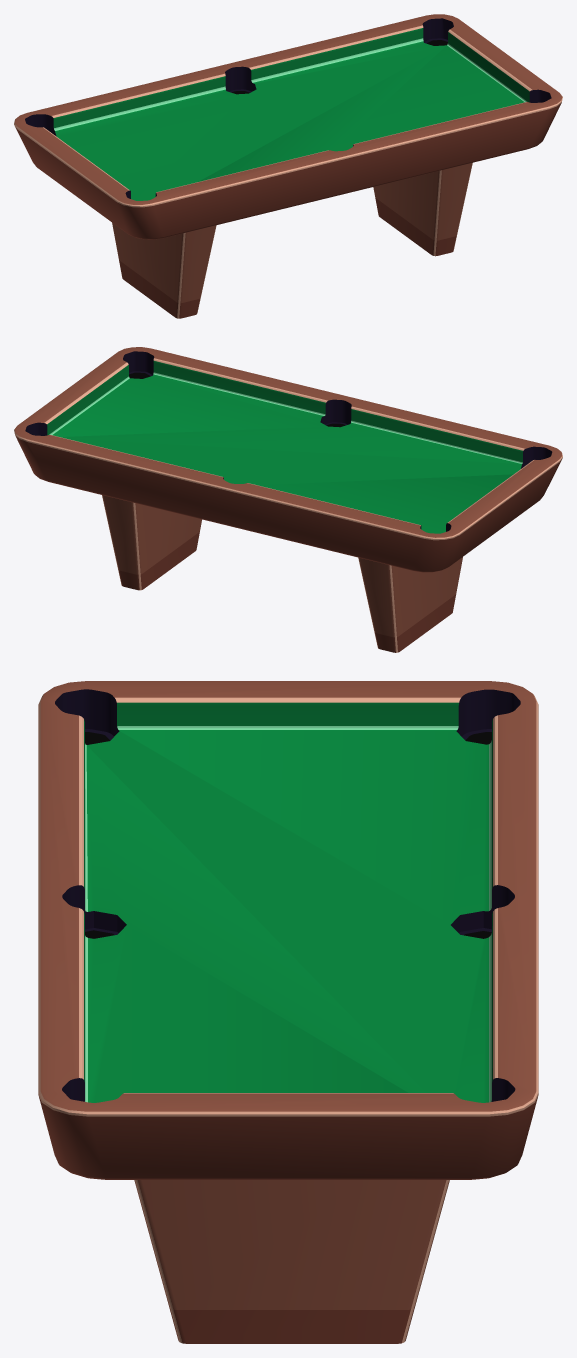
File: BilliardsTable.fbx
3 renders of one model, top to bottom at view 1: azimuth 30°, elevation 25°; view 2: azimuth 150°, elevation 25°; view 3: azimuth 270°, elevation 25°, orthographic. The views are drawn at different scales.
Visible parts, largest first — view 1: BilardoTable, BilardoTableUnder; view 2: BilardoTable, BilardoTableUnder; view 3: BilardoTable, BilardoTableUnder.
Part boxes in pixels (x1=…): BilardoTable: x1=14, y1=14, x2=562, y2=239; BilardoTableUnder: x1=112, y1=162, x2=472, y2=318; BilardoTable: x1=14, y1=347, x2=562, y2=572; BilardoTableUnder: x1=102, y1=495, x2=462, y2=652; BilardoTable: x1=38, y1=681, x2=538, y2=1179; BilardoTableUnder: x1=134, y1=1180, x2=449, y2=1343.
Size of the model in its own units: 792 by 267 by 388.
